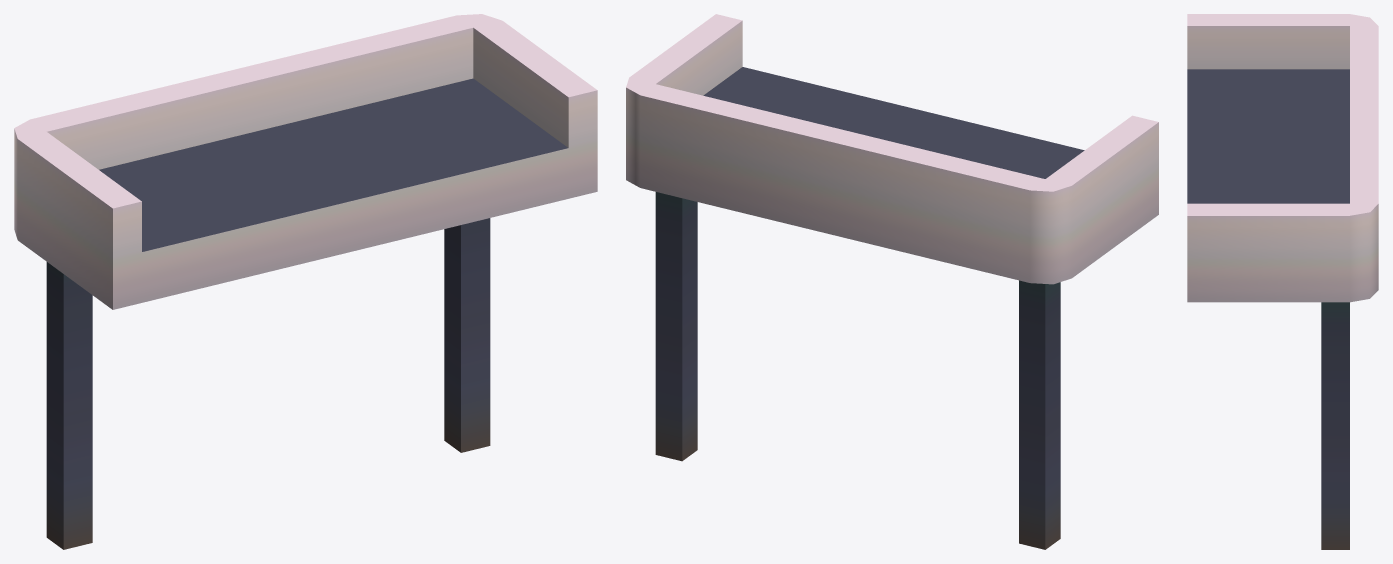
Rendered from com_detail_overhang.glb.
3 renders of one model, left to right at view 1: azimuth 30°, elevation 25°; view 2: azimuth 150°, elevation 25°; view 3: azimuth 270°, elevation 25°, orthographic. The views are drawn at different scales.
Visible parts, largest first — view 1: detail-overhang; view 2: detail-overhang; view 3: detail-overhang.
Boxes of the visible parts, x1,y1,x2,y2 form: detail-overhang: [14, 14, 597, 549]; detail-overhang: [626, 14, 1158, 549]; detail-overhang: [1187, 14, 1378, 549].
Bounding box in the file's own units: 0.5 × 0.4 × 0.2.
Materials: 1 (1 with a texture image).
